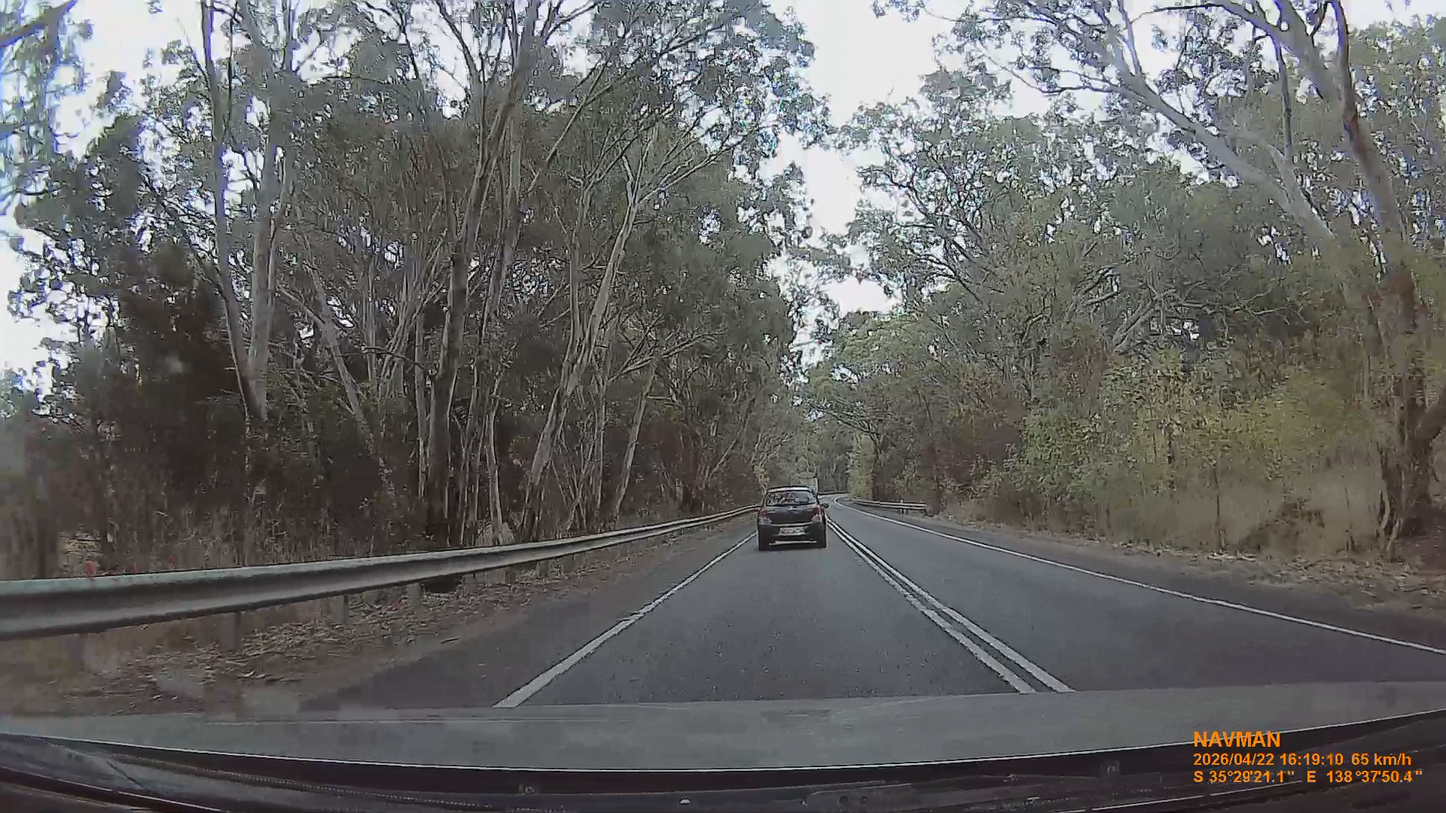road barriers: (0, 508, 752, 641), (854, 499, 929, 514)
